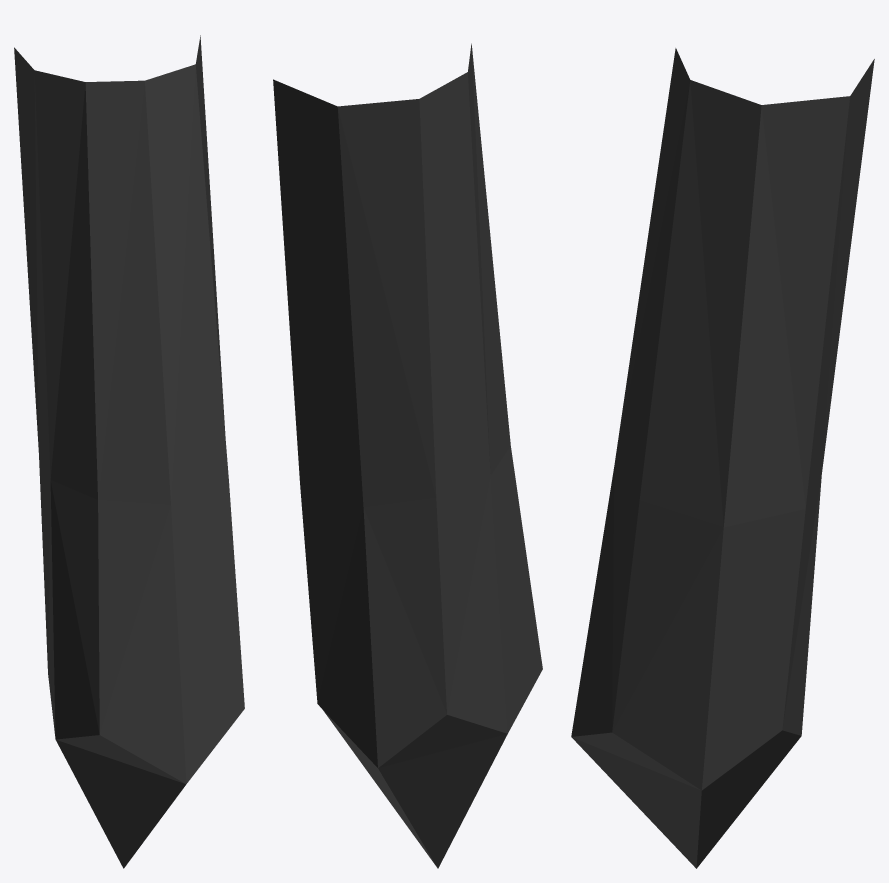
Rendered from bodi003.glb.
3 renders of one model, left to right at view 1: azimuth 30°, elevation 25°; view 2: azimuth 150°, elevation 25°; view 3: azimuth 270°, elevation 25°, orthographic. The views are drawn at different scales.
Parts seen in each view (by area): view 1: bodi003; view 2: bodi003; view 3: bodi003.
Part boxes in pixels (box(x1,y1,x2,y2)): bodi003: box(14, 35, 244, 868); bodi003: box(273, 43, 542, 868); bodi003: box(571, 48, 874, 868).
Size of the model in its own units: 0.0269 by 0.1117 by 0.0371.
Materials: 1 (1 with a texture image).
